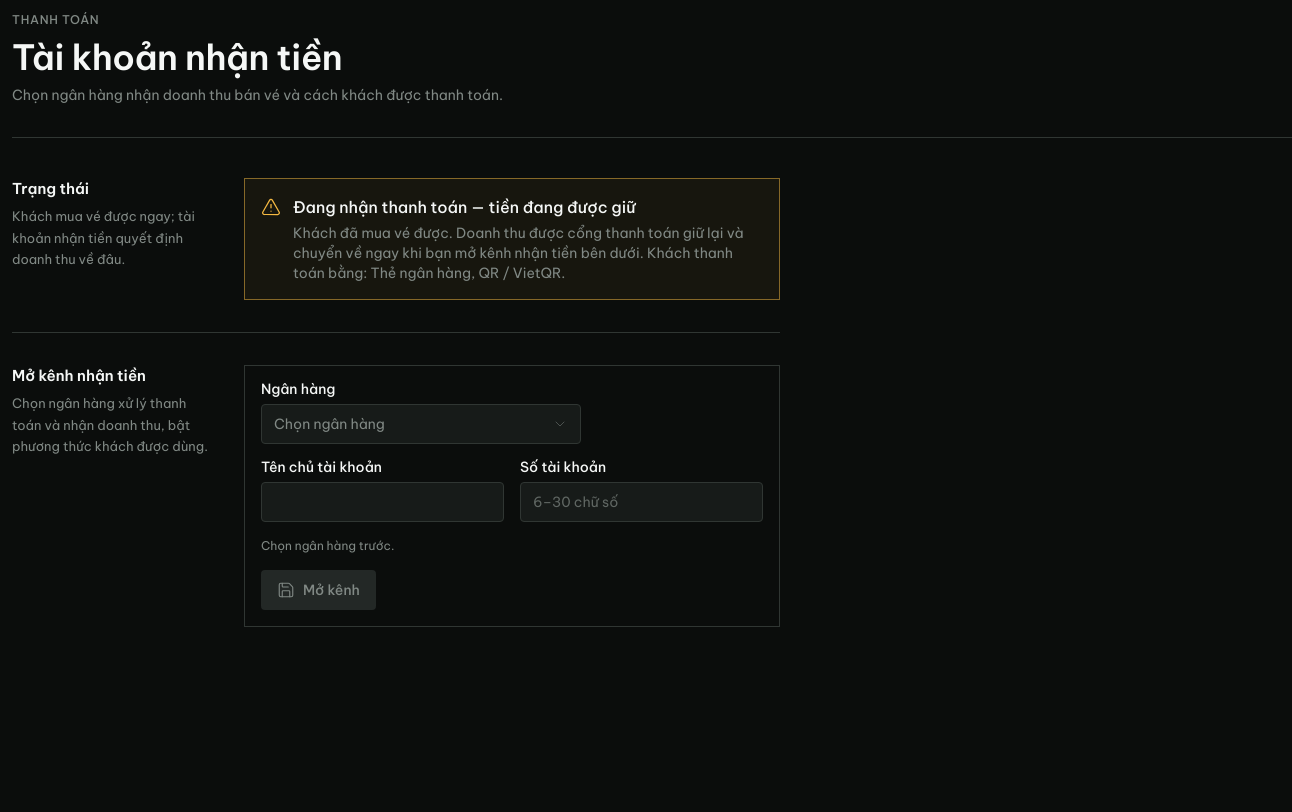
PayoutAccountPage — kênh nhận tiền (cổng BankSim) › mỗi ngân hàng ghi chú kiểu mock bank theo cờ 3DS: có 3DS = profile A, không = profile B, không thẻ = chỉ QR
Click the dropdown labelled "ngân hàng" at (329, 424), box 261,404 -> 581,444
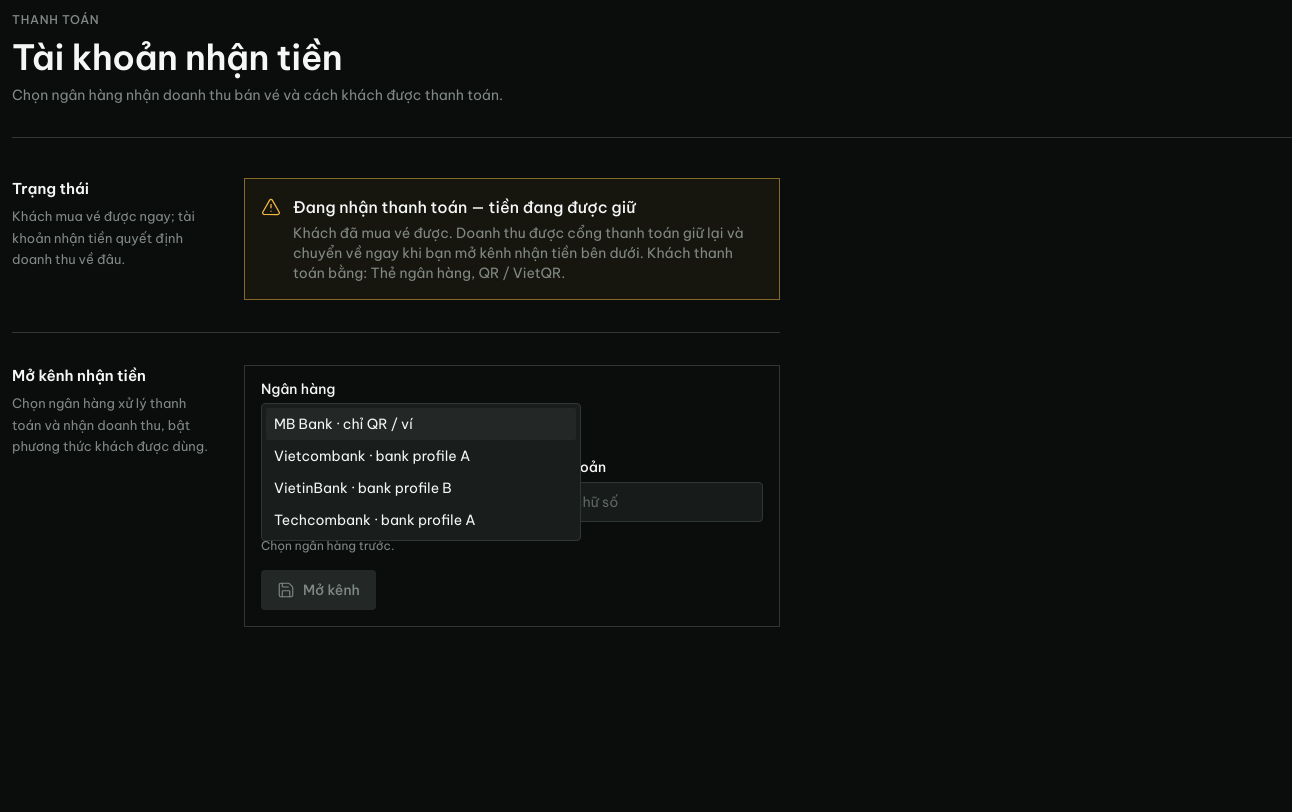
Now the option "Vietcombank · bank profile A" is shown, box 274,447 -> 470,465
Now the option "VietinBank · bank profile B" is shown
Now the option "MB Bank · chỉ QR / ví" is shown, box 266,408 -> 576,440
Click the option "VietinBank · bank profile B" at (363, 488), box 274,479 -> 452,497
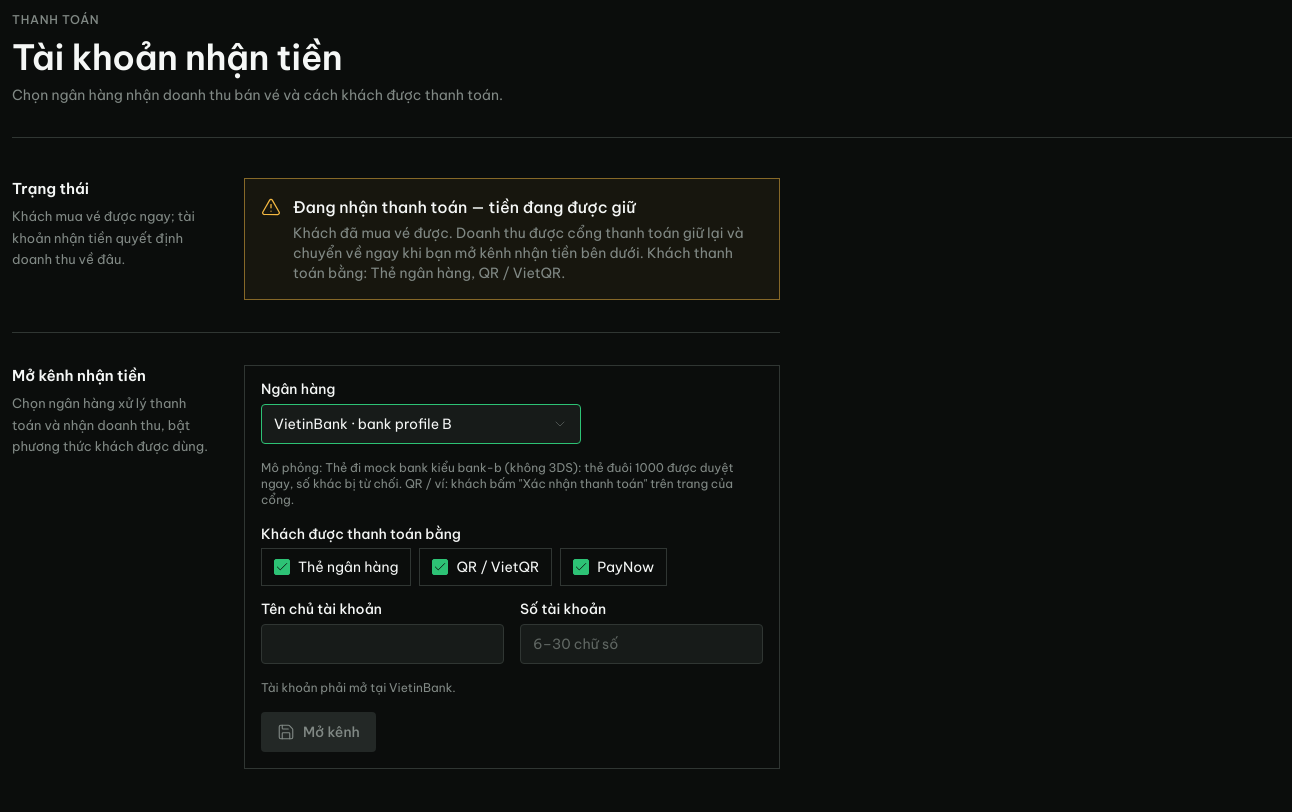
Now the text "kiểu bank-b (không 3DS)" is shown, box 261,460 -> 734,491
